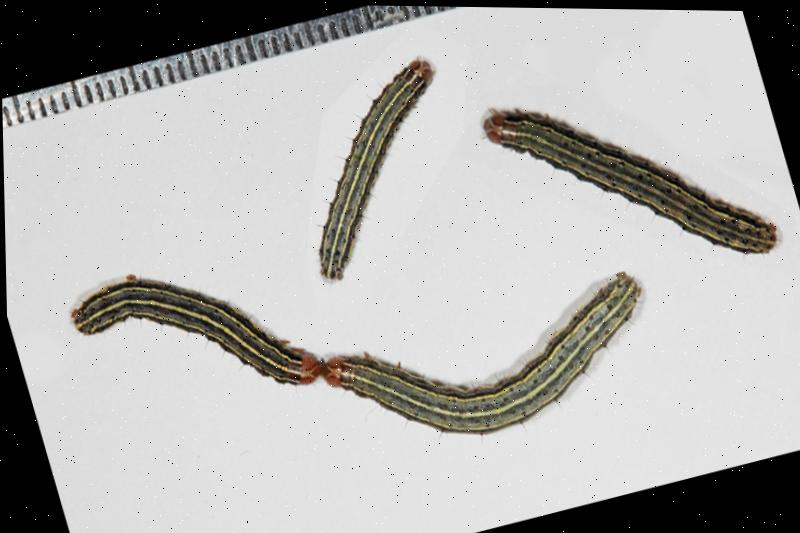fall-armyworm: (319, 269, 642, 434), (481, 106, 777, 252), (69, 273, 319, 386), (318, 56, 434, 280)
